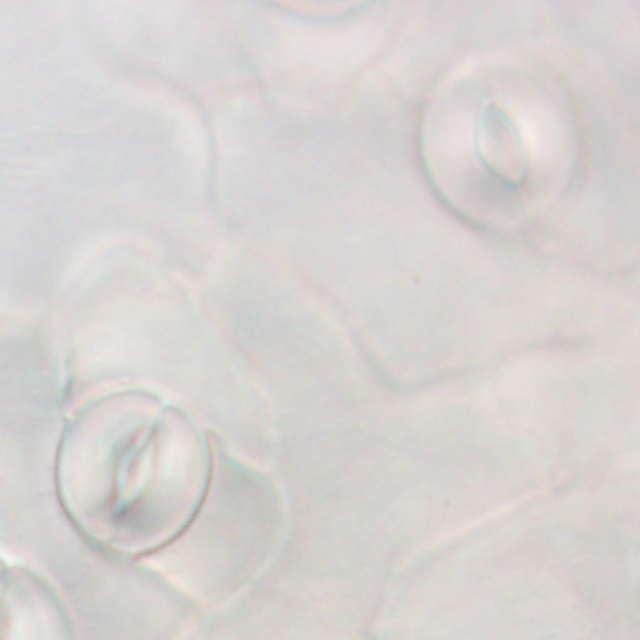center: (475, 102, 528, 185), (112, 424, 158, 513), (19, 594, 54, 606), (295, 7, 341, 10)
stomata-huw1: (419, 62, 579, 229), (57, 389, 211, 555), (1, 561, 72, 639), (267, 1, 369, 16)
